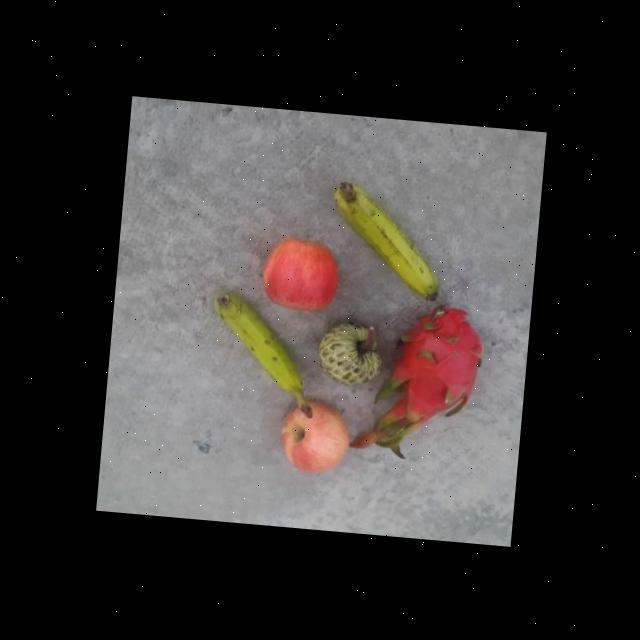Sakya fruit: (312, 315, 384, 387)
apple: (256, 232, 340, 314), (276, 394, 350, 476)
banana: (322, 176, 450, 303), (202, 290, 322, 417)
pitaya: (381, 298, 489, 427)
